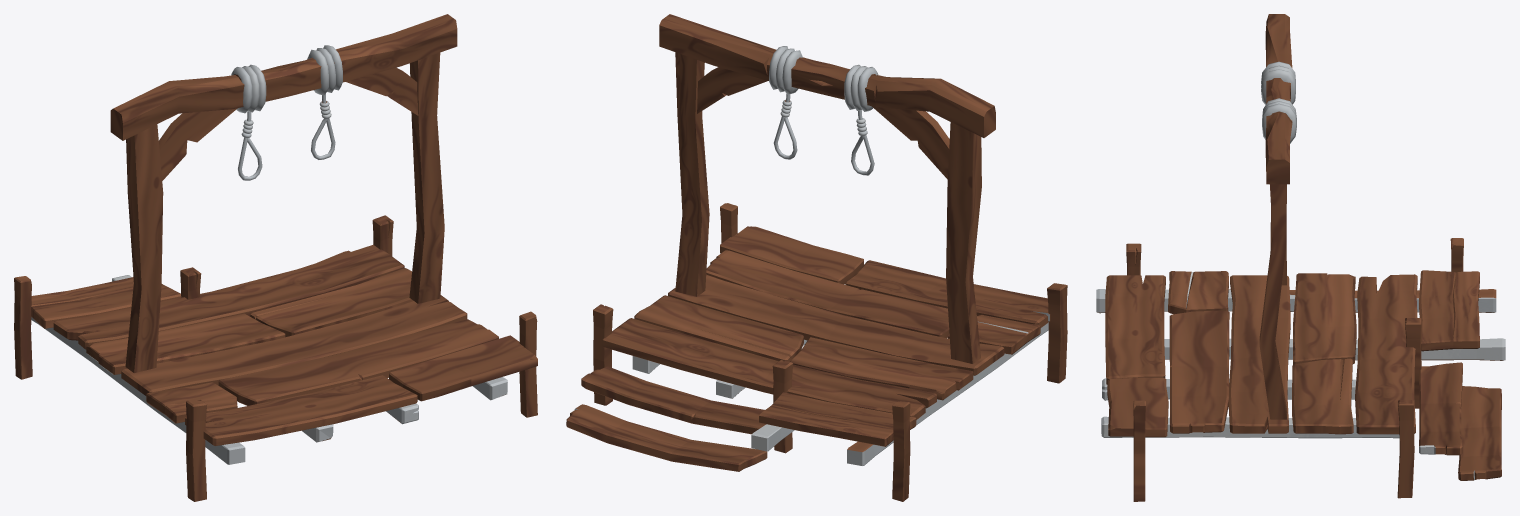
Rendered from SM_Platform.fbx.
The picture shows the model from 3 angles, left to right: view 1: azimuth 30°, elevation 25°; view 2: azimuth 150°, elevation 25°; view 3: azimuth 270°, elevation 25°; orthographic projection. The views are drawn at different scales.
Visible parts, largest first — view 1: SM_Platform; view 2: SM_Platform; view 3: SM_Platform.
Part boxes in pixels (x1,y1,x2,y2): SM_Platform: (14,14,537,501); SM_Platform: (566,14,1067,501); SM_Platform: (1096,14,1505,501).
Bounding box in the file's own units: 318 × 298 × 327.
